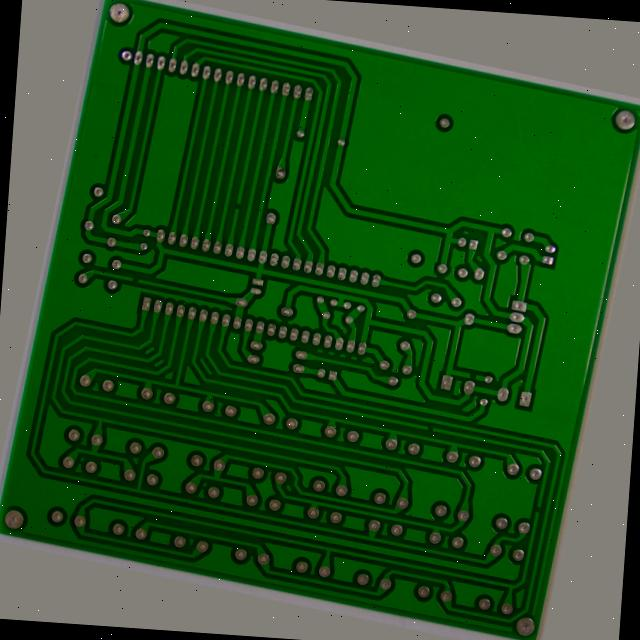open_circuit: (100, 298, 117, 311), (492, 352, 508, 365), (454, 417, 467, 431), (589, 489, 599, 505), (205, 198, 216, 212)
